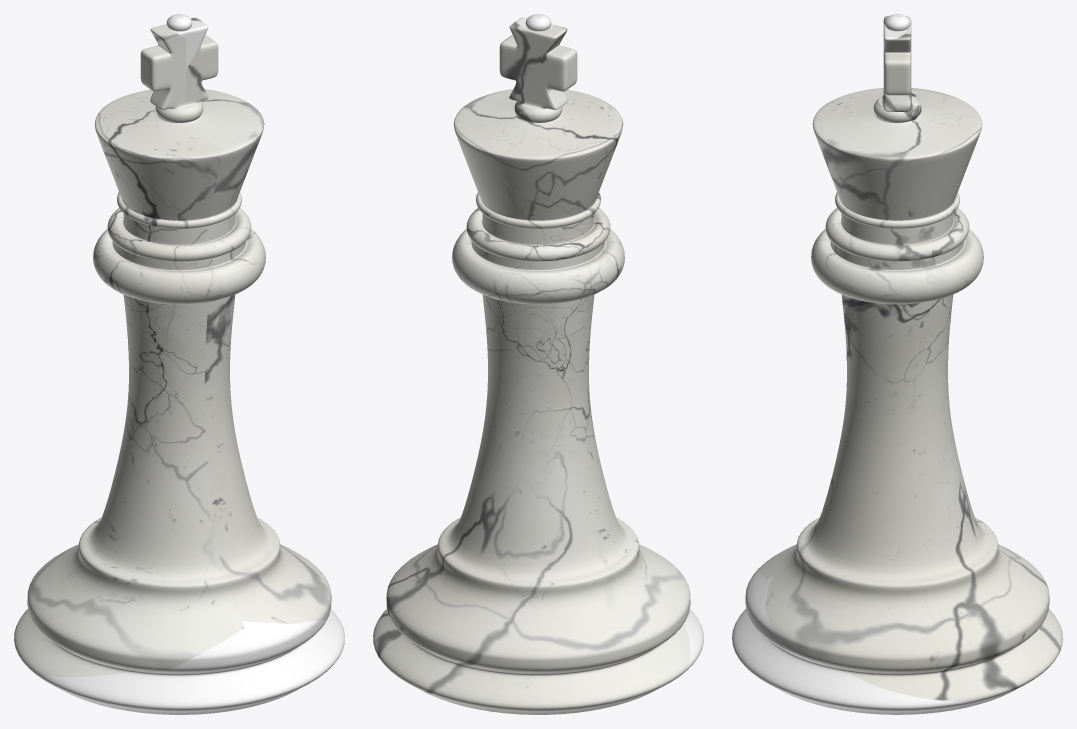
The model's file is king-rerender.glb.
3 views of the same model, side by side, from view 1: azimuth 30°, elevation 25°; view 2: azimuth 150°, elevation 25°; view 3: azimuth 270°, elevation 25° (orthographic).
Visible parts, largest first — view 1: Cylinder_3; view 2: Cylinder_3; view 3: Cylinder_3.
Boxes of the visible parts, box(x1,y1,x2,y2) form: Cylinder_3: box(14, 14, 344, 714); Cylinder_3: box(373, 14, 703, 714); Cylinder_3: box(732, 14, 1062, 714).
Size of the model in its own units: 2.19 by 4.66 by 2.19.
Materials: 1 (1 with a texture image).
